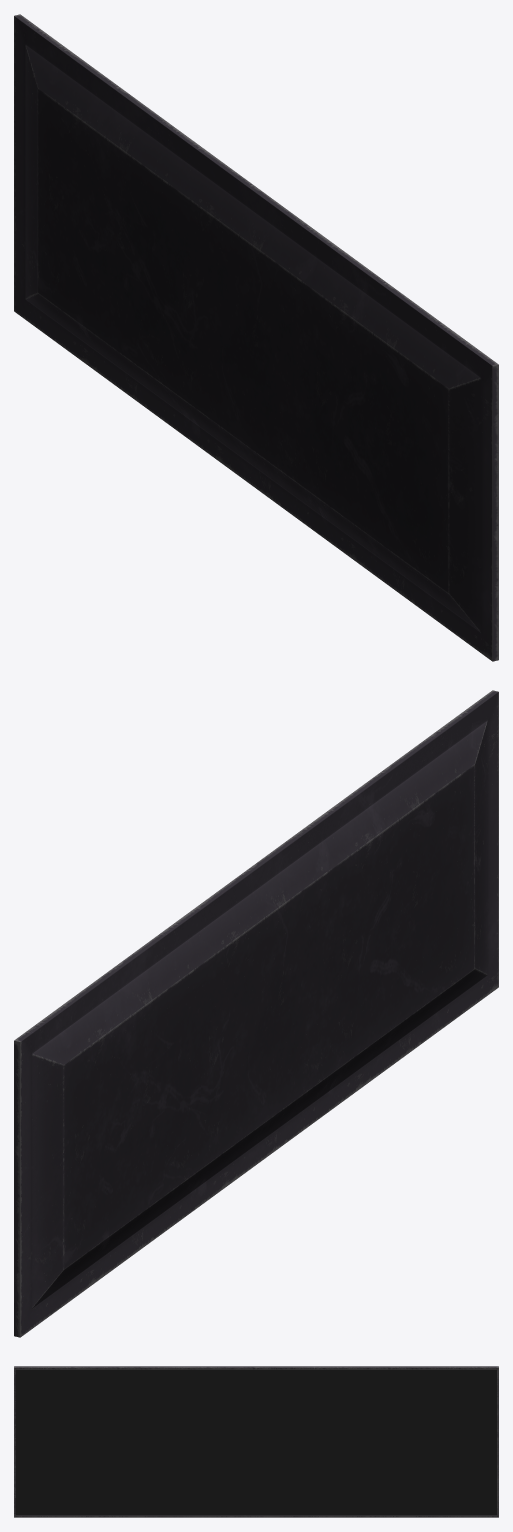
The model's file is InsiderTradingGame_Monitor_Large.fbx.
The picture shows the model from 3 angles, top to bottom: view 1: azimuth 30°, elevation 25°; view 2: azimuth 150°, elevation 25°; view 3: azimuth 270°, elevation 25°; orthographic projection. The views are drawn at different scales.
Parts seen in each view (by area): view 1: Monitor_1.010; view 2: Monitor_1.010; view 3: Monitor_1.010.
Part boxes in pixels (bbox=[...]): Monitor_1.010: bbox=[14, 14, 498, 661]; Monitor_1.010: bbox=[14, 690, 498, 1337]; Monitor_1.010: bbox=[14, 1366, 498, 1517].
Size of the model in its own units: 8.99 by 157 by 461.
1 material, 1 textured.
